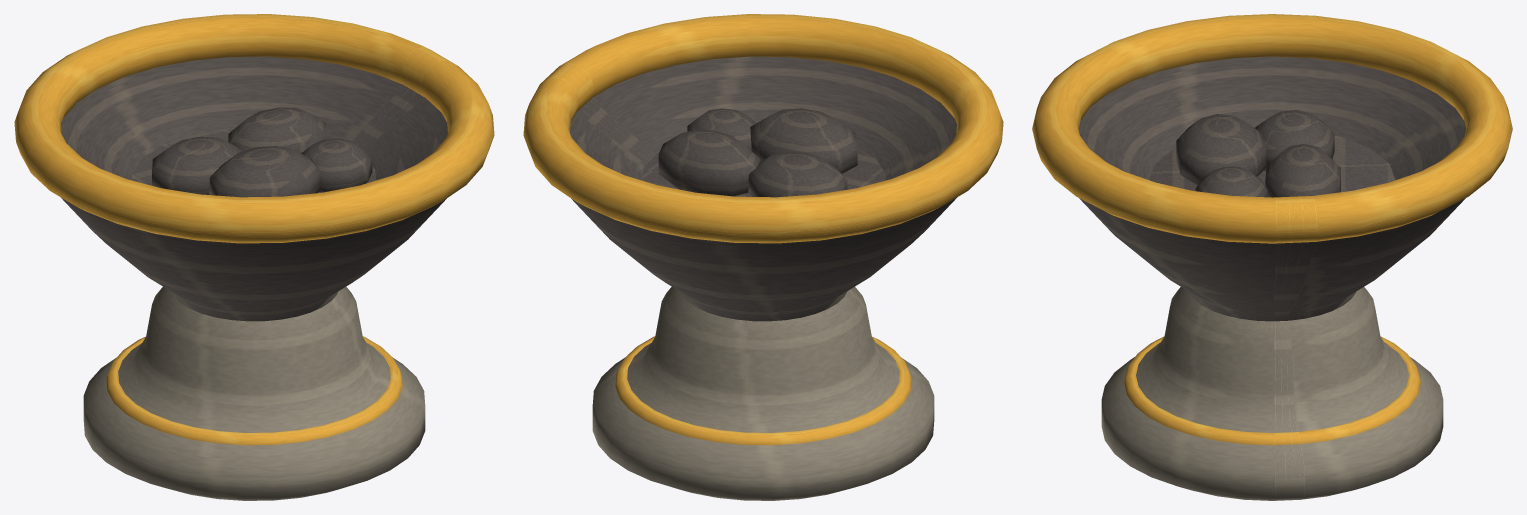
The model's file is brazier.obj.
The picture shows the model from 3 angles, left to right: view 1: azimuth 30°, elevation 25°; view 2: azimuth 150°, elevation 25°; view 3: azimuth 270°, elevation 25°; orthographic projection.
Parts seen in each view (by area): view 1: stylized_gate_brazier; view 2: stylized_gate_brazier; view 3: stylized_gate_brazier.
Boxes of the visible parts, x1,y1,x2,y2 form: stylized_gate_brazier: (14, 14, 494, 500); stylized_gate_brazier: (523, 14, 1003, 500); stylized_gate_brazier: (1032, 14, 1512, 500).
Size of the model in its own units: 1.41 by 1.07 by 1.41.
4 materials, 4 textured.
